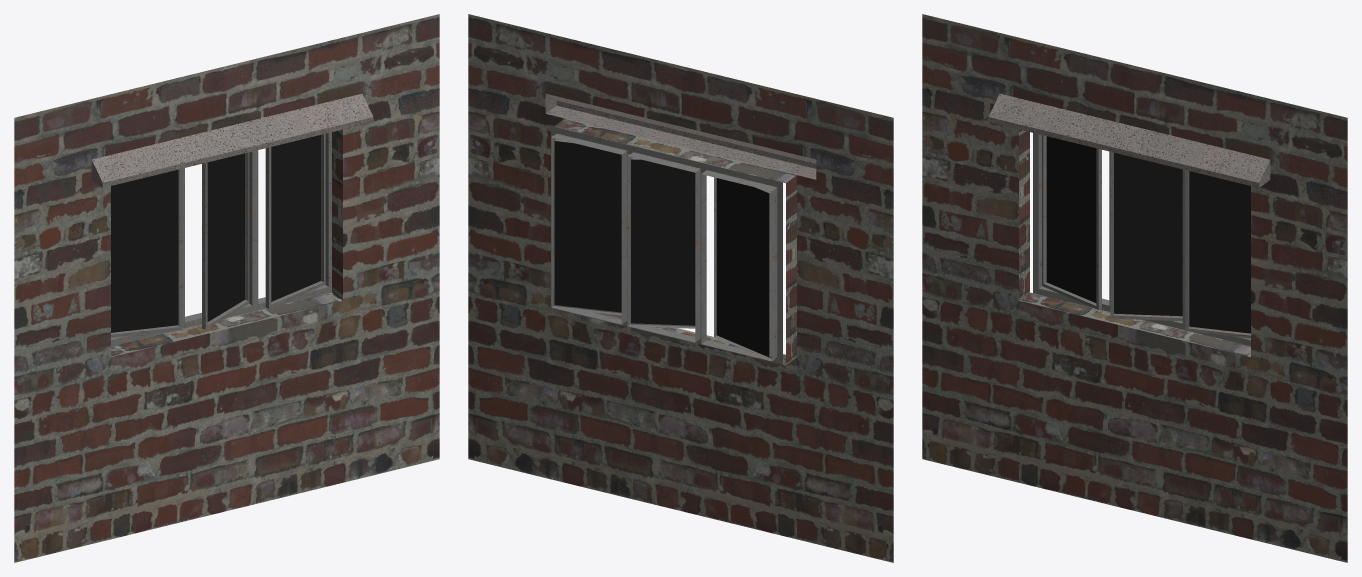
Rendered from window_002_0.gltf.
3 renders of one model, left to right at view 1: azimuth 30°, elevation 25°; view 2: azimuth 150°, elevation 25°; view 3: azimuth 330°, elevation 25°, orthographic.
Parts seen in each view (by area): view 1: Window_002_0; view 2: Window_002_0; view 3: Window_002_0.
Part boxes in pixels (box(x1,y1,x2,y2)): Window_002_0: box(14, 14, 439, 562); Window_002_0: box(468, 14, 893, 562); Window_002_0: box(922, 14, 1347, 562).
Size of the model in its own units: 2.2 by 2.2 by 0.25.
Materials: 4 (3 with a texture image).
